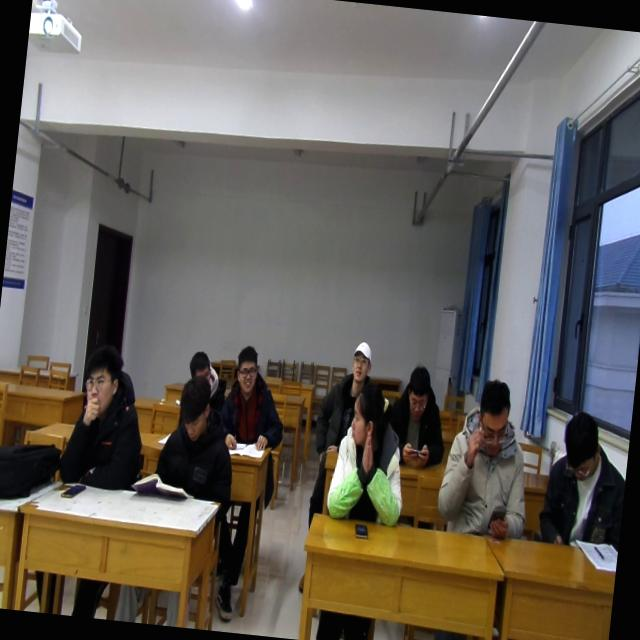down: (469, 370, 518, 459), (557, 408, 605, 487), (171, 368, 215, 446), (400, 358, 436, 422), (182, 340, 216, 388)
lookup: (76, 340, 125, 422), (231, 342, 263, 399), (346, 335, 374, 385)
sit: (433, 376, 542, 540), (54, 342, 154, 492), (322, 382, 416, 532), (540, 408, 631, 550), (148, 374, 242, 508), (212, 340, 294, 456), (384, 362, 456, 475), (312, 328, 374, 453), (176, 343, 232, 411)
